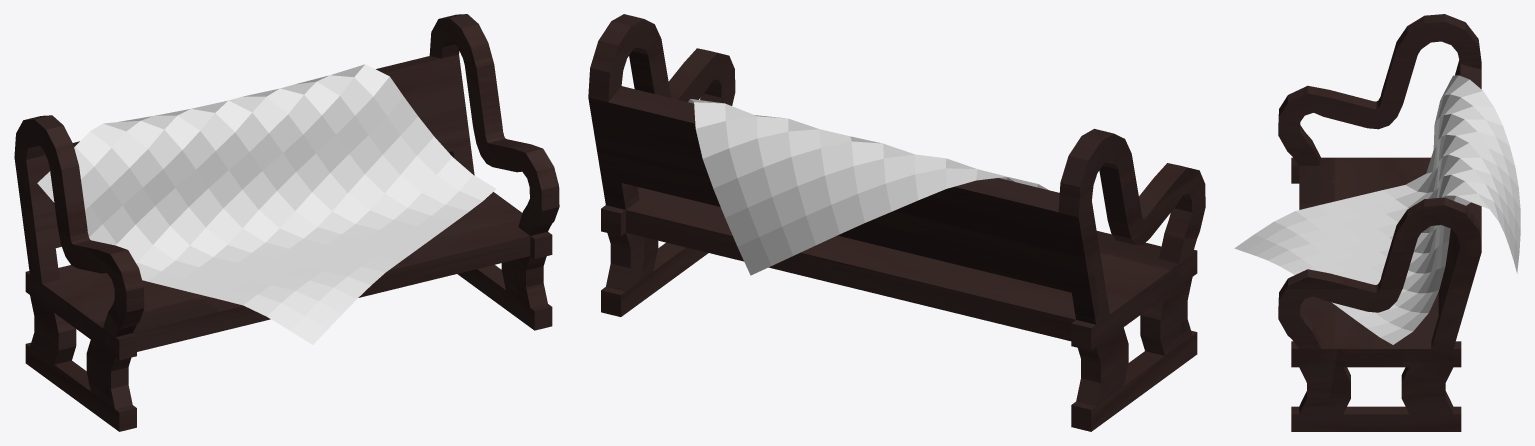
File: Bench2.fbx
3 renders of one model, left to right at view 1: azimuth 30°, elevation 25°; view 2: azimuth 150°, elevation 25°; view 3: azimuth 270°, elevation 25°, orthographic. The views are drawn at different scales.
Parts seen in each view (by area): view 1: Plane.001, Cube; view 2: Cube, Plane.001; view 3: Cube, Plane.001.
Boxes of the visible parts, x1,y1,x2,y2 form: Plane.001: [37, 64, 495, 344]; Cube: [14, 14, 559, 431]; Cube: [588, 14, 1205, 431]; Plane.001: [688, 99, 1049, 275]; Cube: [1278, 14, 1481, 431]; Plane.001: [1234, 75, 1520, 344].
Size of the model in its own units: 587 by 324 by 371.
Materials: 2 (1 with a texture image).
